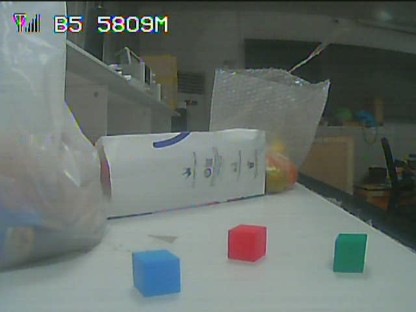b: (132, 249, 179, 294)
g: (333, 235, 366, 270)
r: (229, 224, 267, 258)
